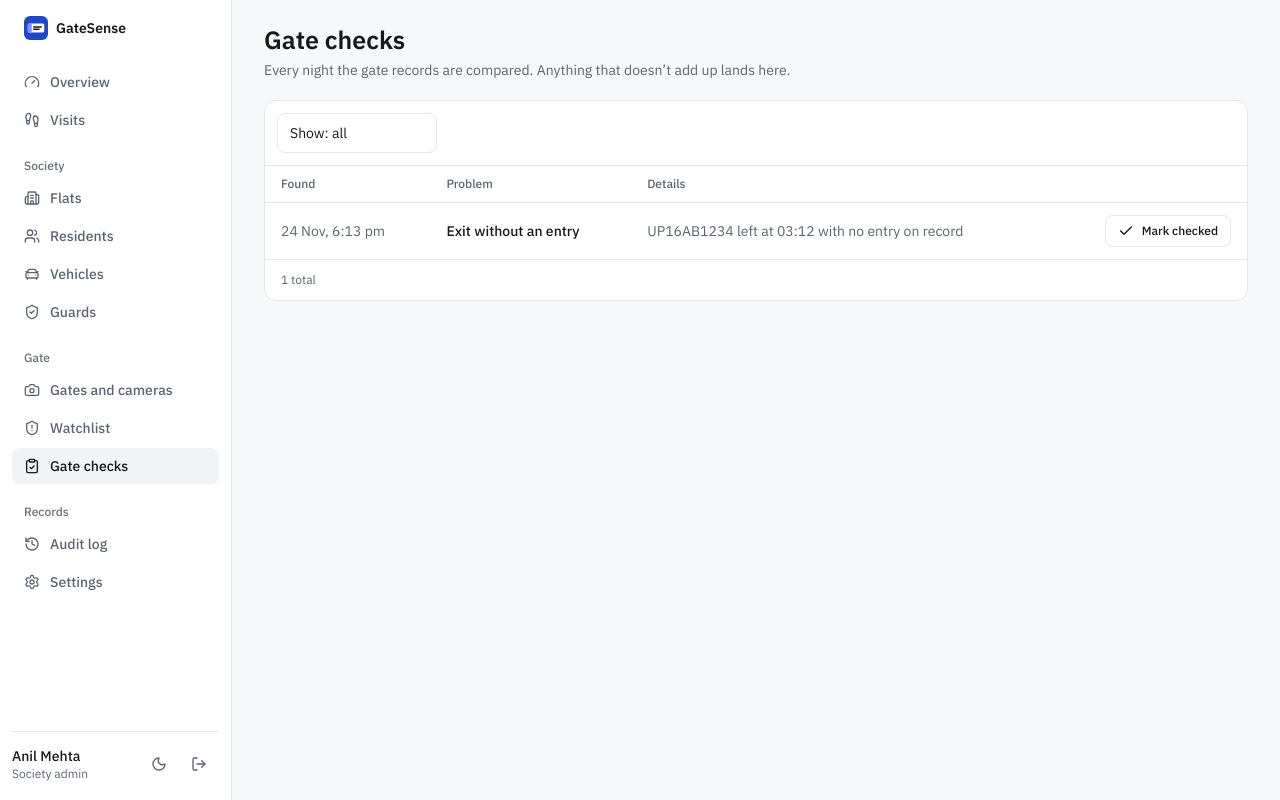
Test: Records › marks a gate check as checked
Expected: the text "Exit without an entry" is shown, [446,222,580,240]
Click the button "Mark checked" at (1168, 231), box [1105,215,1231,247]
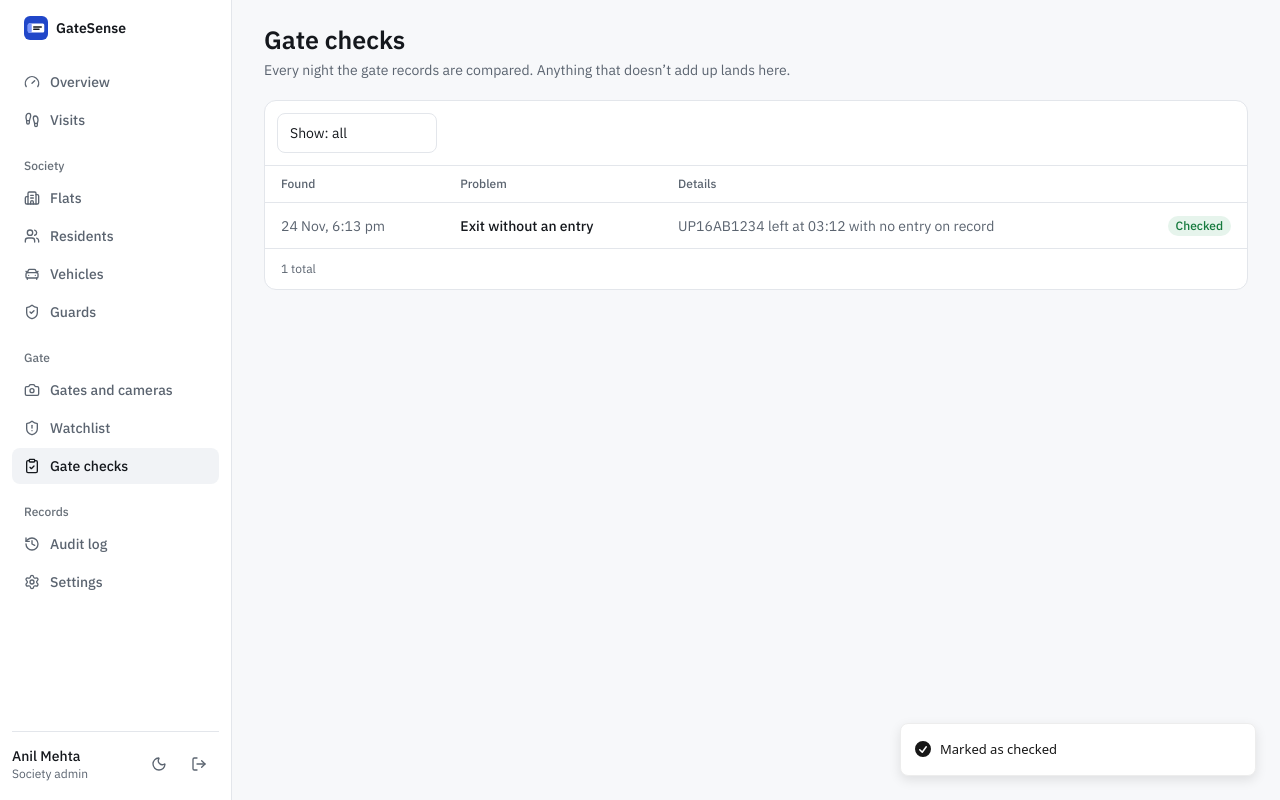
Expected: the text "Checked" is shown, [1168,216,1231,236]
